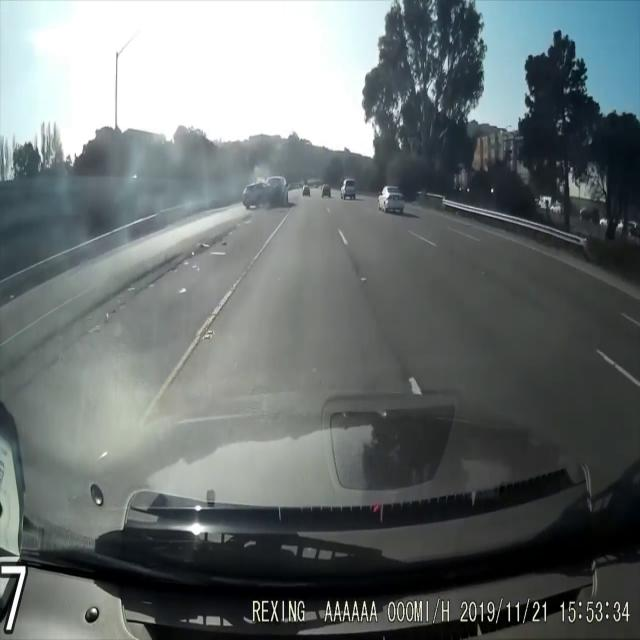accident: (231, 168, 293, 212)
